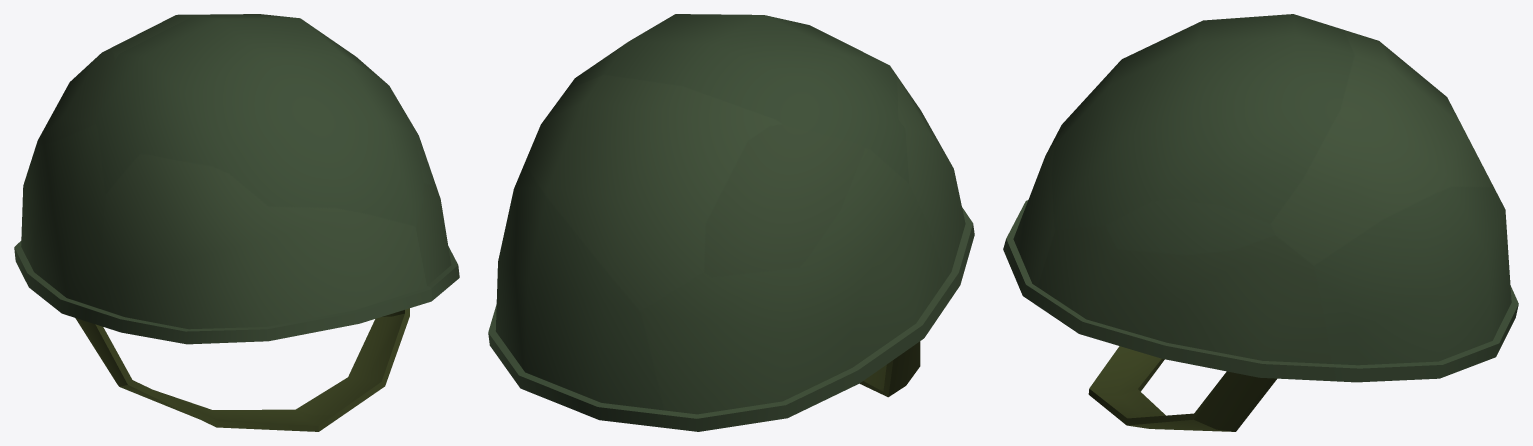
File: Casco.fbx
The picture shows the model from 3 angles, left to right: view 1: azimuth 30°, elevation 25°; view 2: azimuth 150°, elevation 25°; view 3: azimuth 270°, elevation 25°; orthographic projection. The views are drawn at different scales.
Visible parts, largest first — view 1: Casco; view 2: Casco; view 3: Casco.
Part boxes in pixels (left/top/right/bottom): Casco: left=14, top=14, right=459, bottom=431; Casco: left=488, top=14, right=974, bottom=431; Casco: left=1003, top=14, right=1518, bottom=431.
Size of the model in its own units: 57.84 by 54.1 by 69.82.
Materials: 1 (1 with a texture image).
